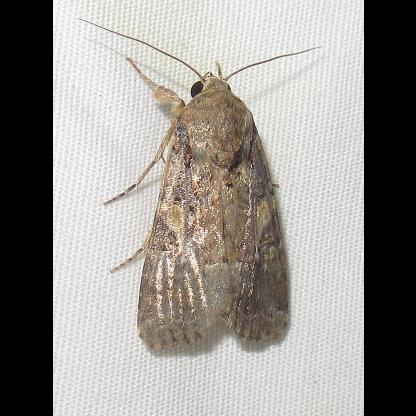Fall Armyworm Moth: (75, 15, 326, 354)
